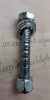FinishedAssembly: (15, 12, 37, 94)
